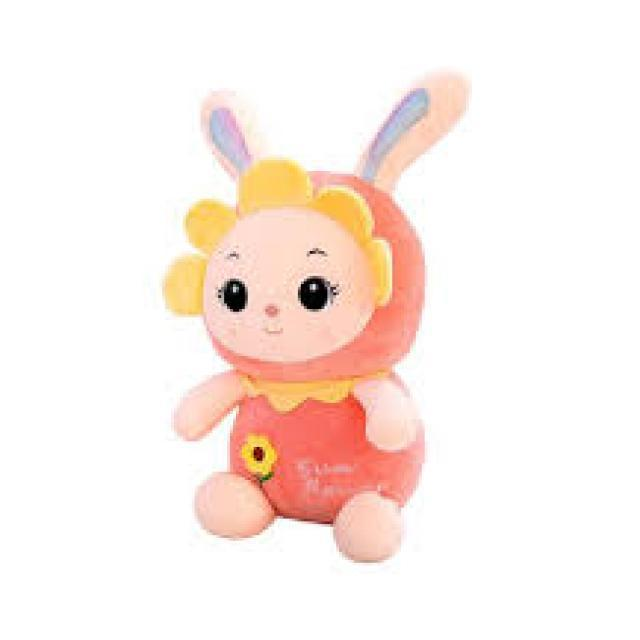soft-toy: (166, 75, 469, 562)
